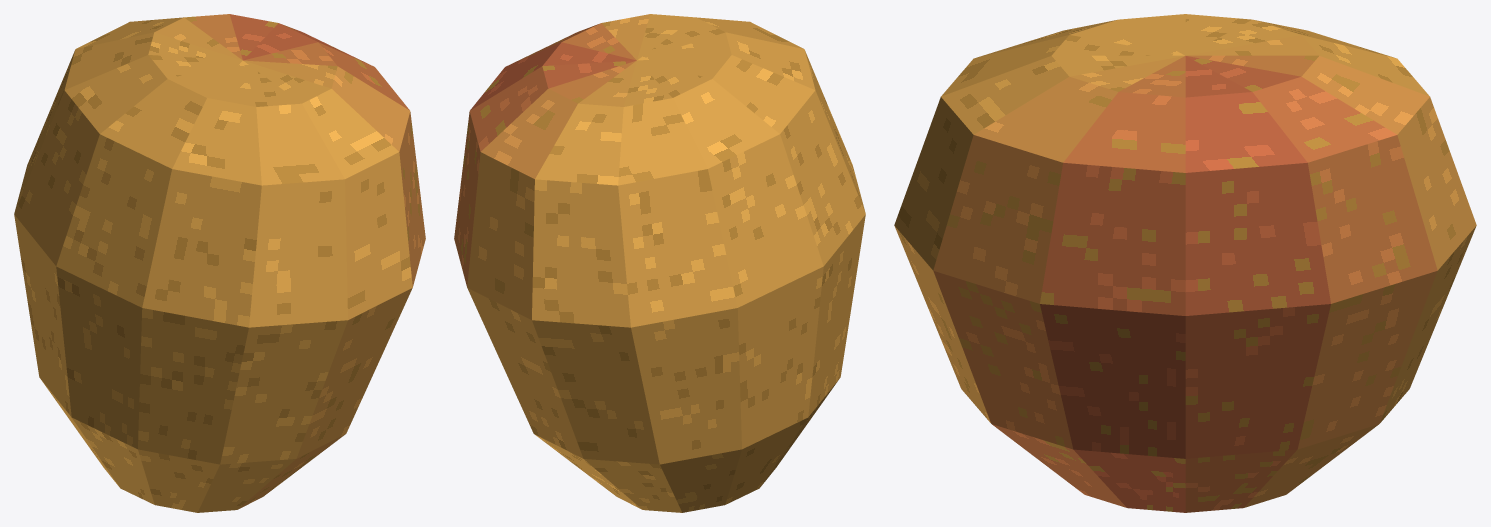
Rendered from mango.glb.
3 views of the same model, side by side, from view 1: azimuth 30°, elevation 25°; view 2: azimuth 150°, elevation 25°; view 3: azimuth 270°, elevation 25° (orthographic). The views are drawn at different scales.
Parts seen in each view (by area): view 1: block_mango; view 2: block_mango; view 3: block_mango.
Part boxes in pixels (x1,y1,x2,y2): block_mango: (14, 14, 425, 512); block_mango: (454, 14, 865, 512); block_mango: (894, 14, 1476, 512).
Bounding box in the file's own units: 0.106 × 0.1231 × 0.1437.
1 material, 1 textured.
